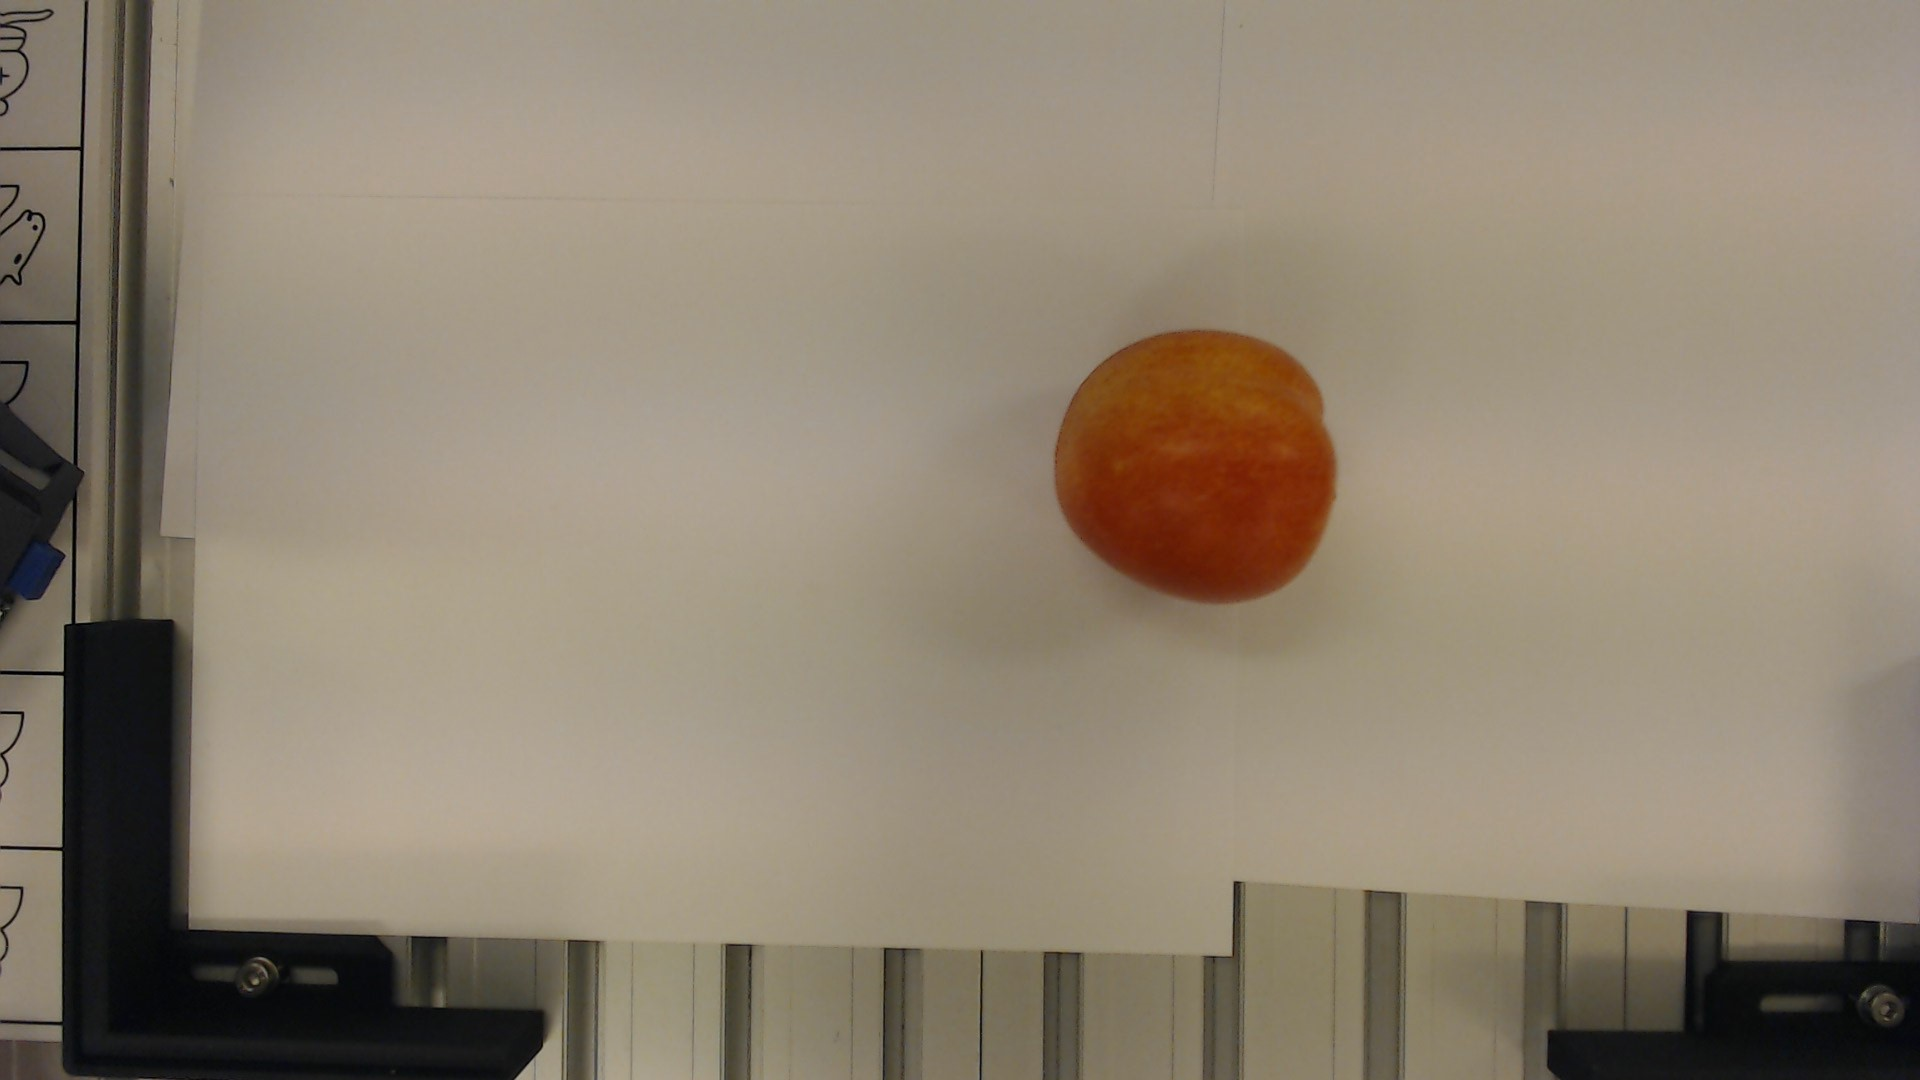Peach: (1055, 327, 1341, 607)
